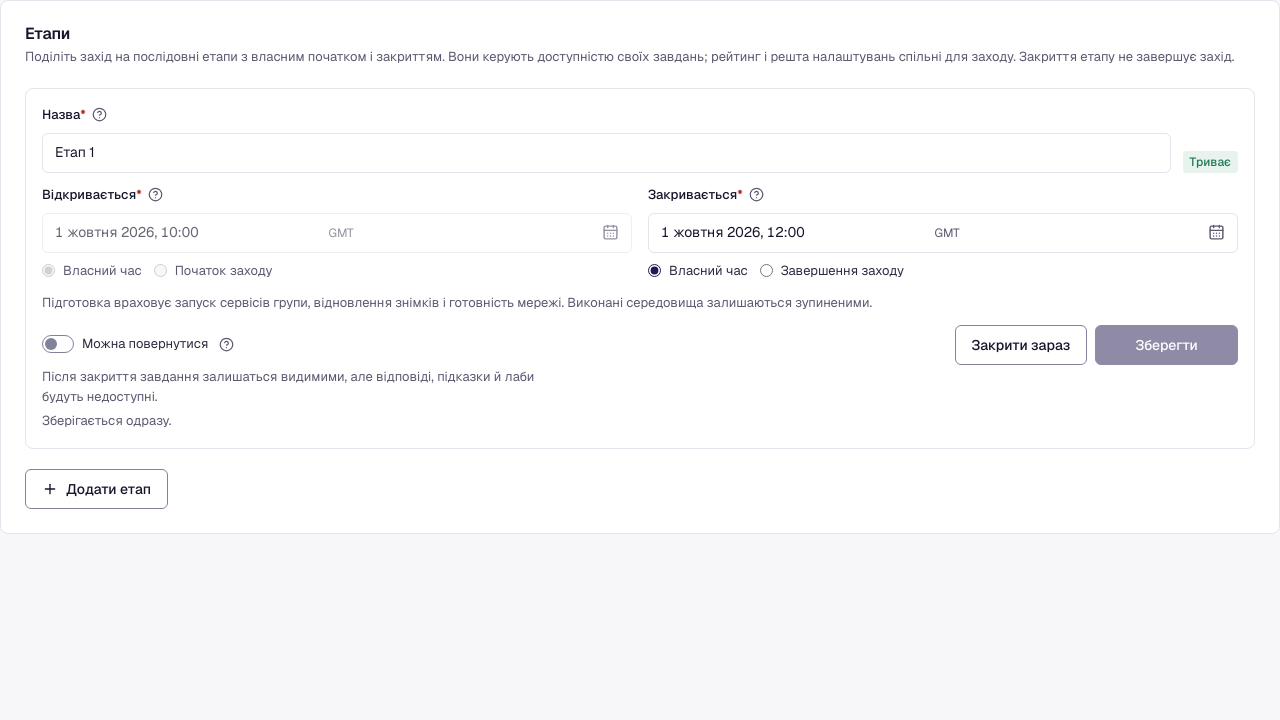
Test: the stages block › says «закрити» when closing a stage now fails
Expected: the list item with aria-label "Етап «Етап 1»" is shown, [25, 88, 1255, 448]
Click the button "Закрити зараз". click: coordinates (1021, 345)
box: [954, 325, 1087, 365]
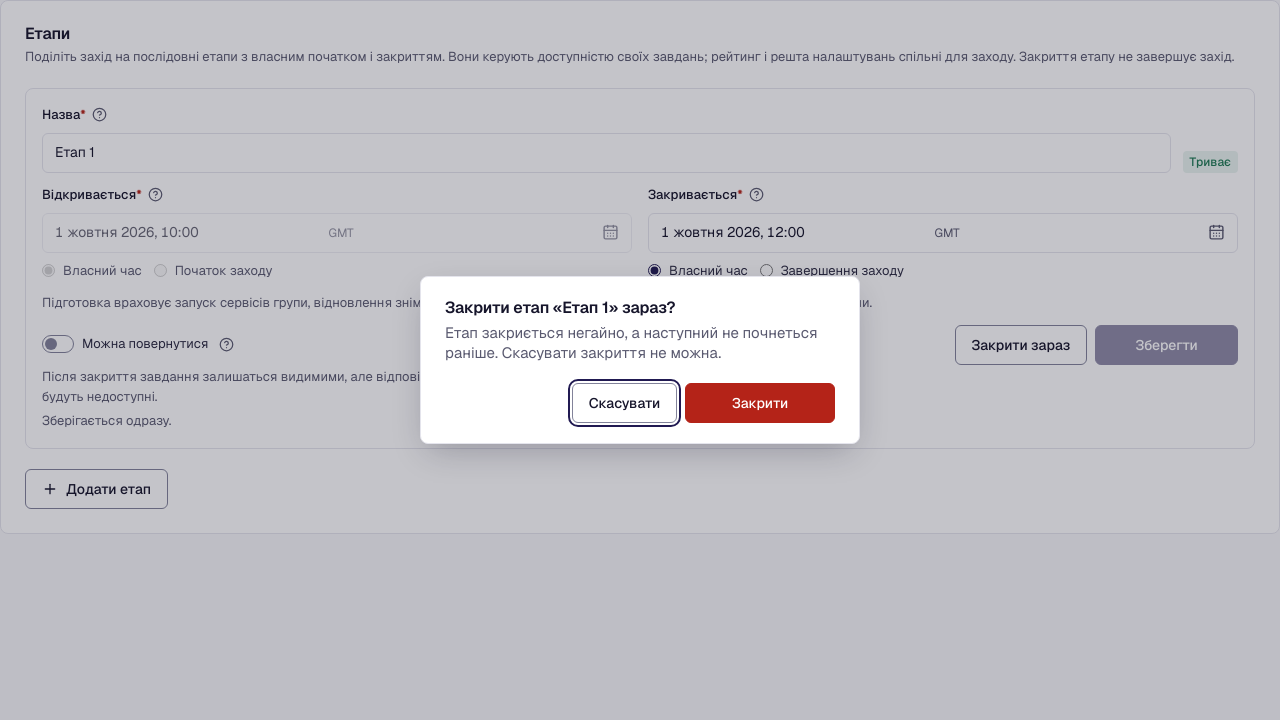
Click the button "Закрити". click: coordinates (760, 403)
box: [685, 383, 835, 423]
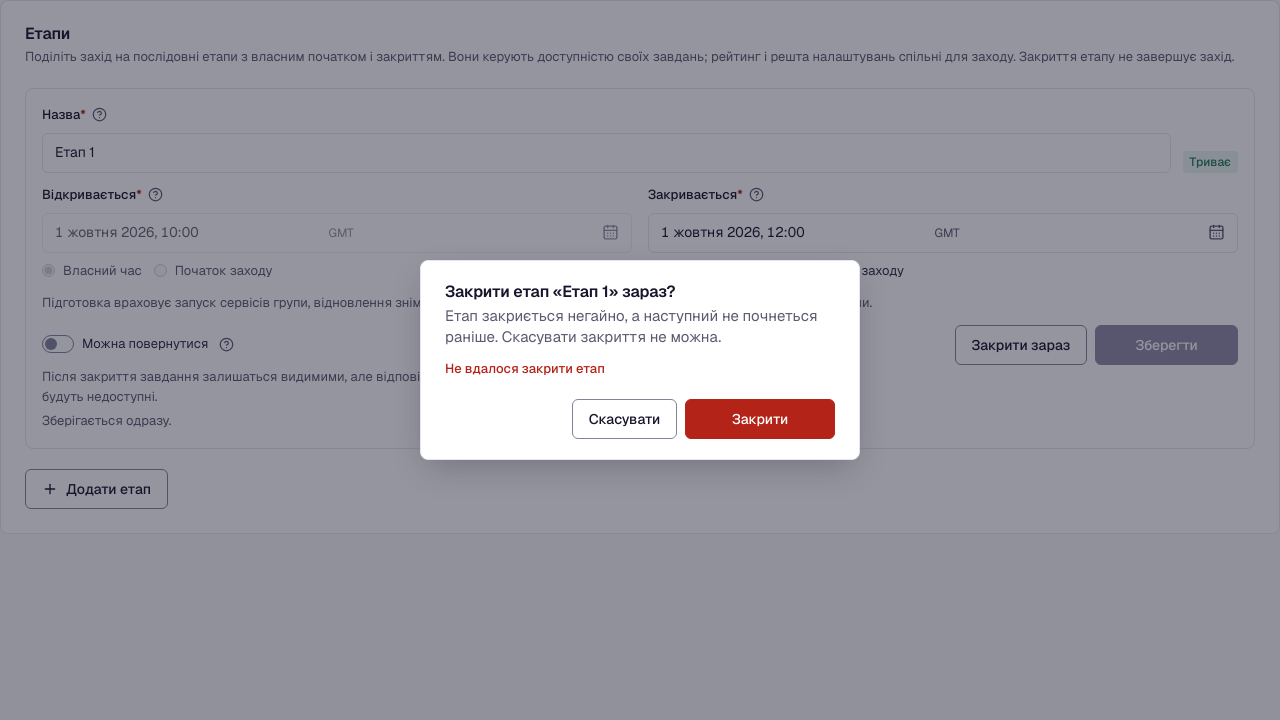
Now the text "Не вдалося закрити етап" is shown, box [445, 360, 605, 377]
